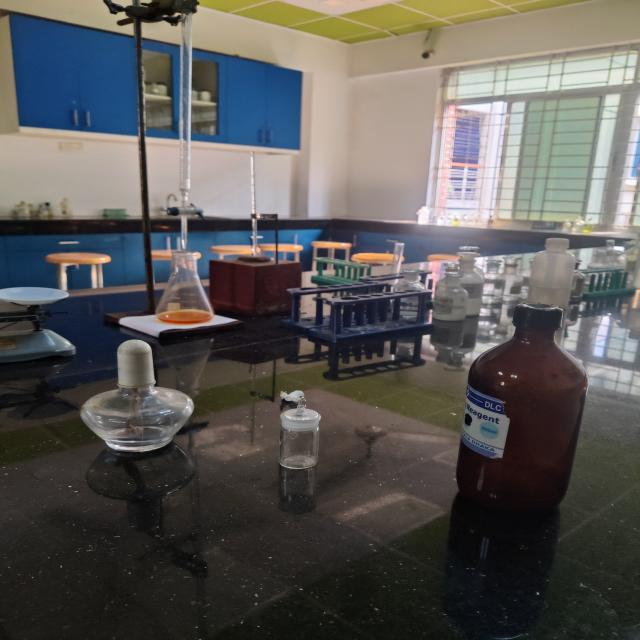Nessler_Reagent_Bottle: (455, 298, 601, 522)
Spirit_Lamp: (60, 328, 219, 469)
Weighing_Bottle: (262, 389, 334, 482)
